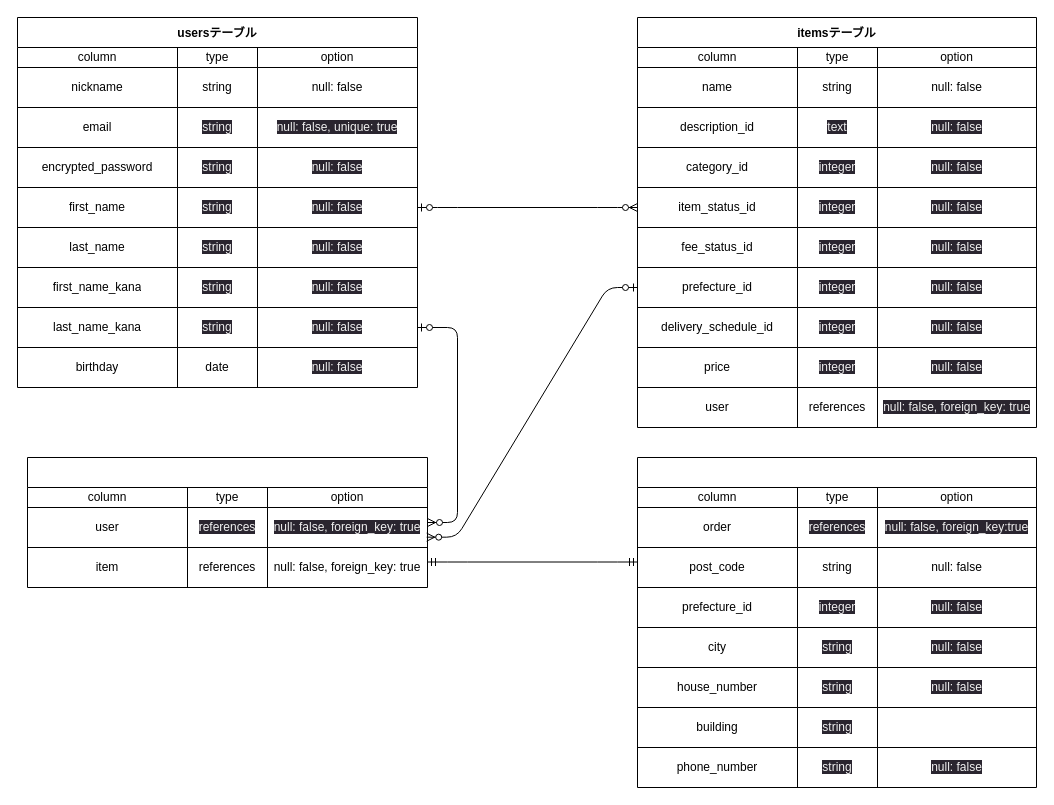
This 1054x805 diagram has some shape labels left out. Here are the shapes that lost their labels. From the top down, the box of each, then its label:
(26, 456, 428, 588): ordersテーブル
(636, 456, 1036, 788): paymentsテーブル
